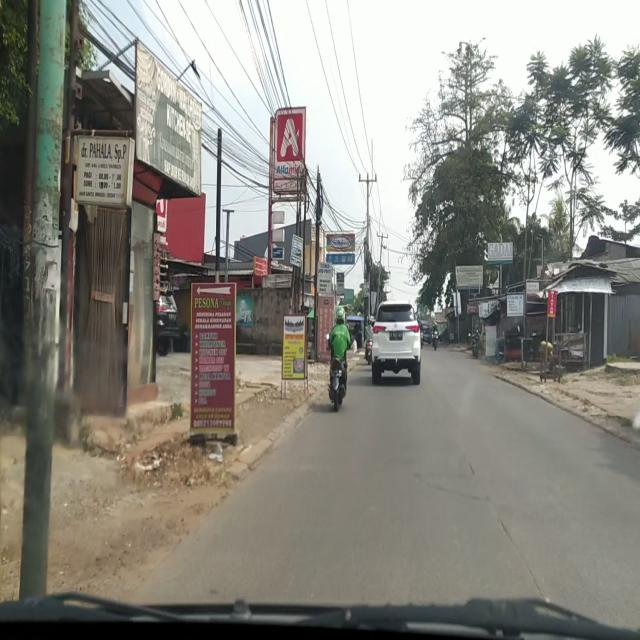Sewer Cover: (416, 475, 489, 503), (415, 470, 476, 481)
